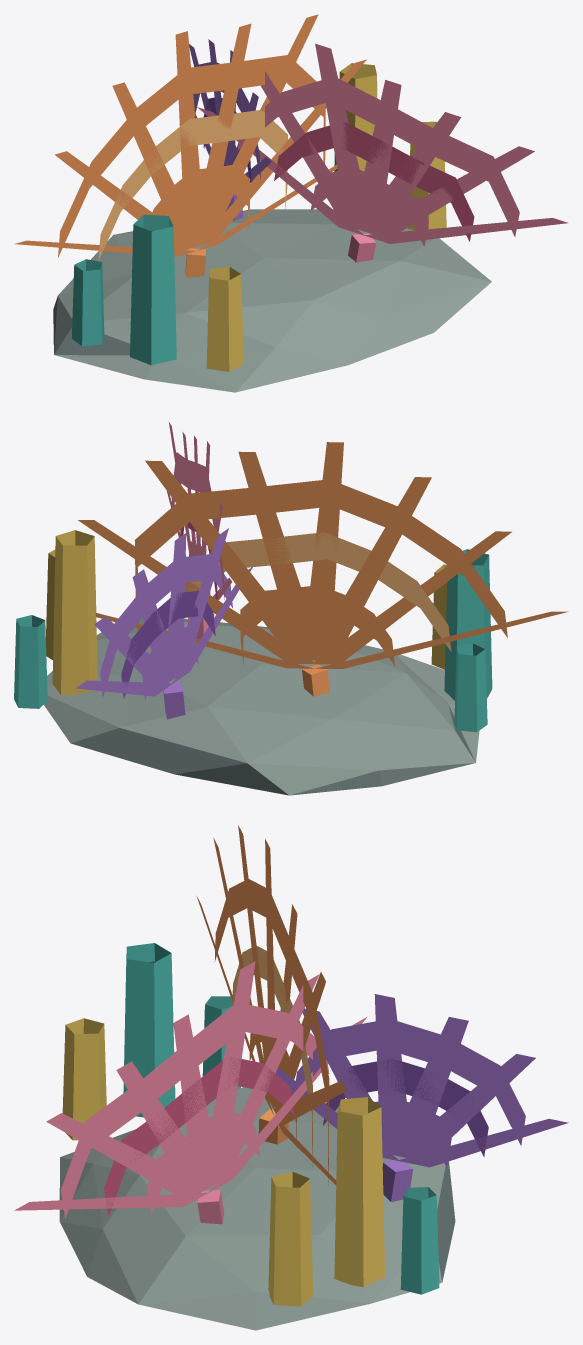
Rendered from coral_c.glb.
3 renders of one model, top to bottom at view 1: azimuth 30°, elevation 25°; view 2: azimuth 150°, elevation 25°; view 3: azimuth 270°, elevation 25°, orthographic. The views are drawn at different scales.
Parts seen in each view (by area): view 1: Body; view 2: Body; view 3: Body.
Boxes of the visible parts, x1,y1,x2,y2 form: Body: (14, 14, 567, 392); Body: (14, 422, 568, 795); Body: (14, 825, 568, 1330).
Bounding box in the file's own units: 1.89 × 1.08 × 1.63.
